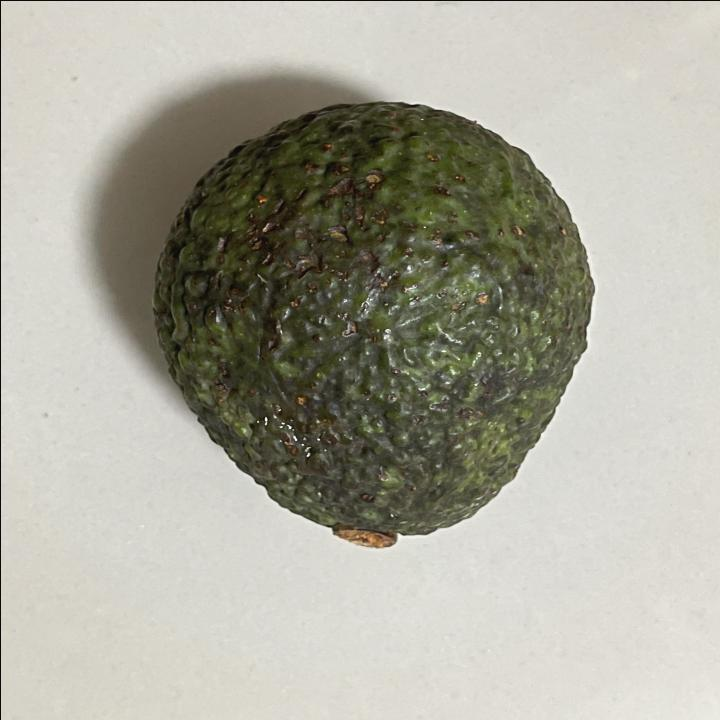Level1: (143, 91, 605, 565)
